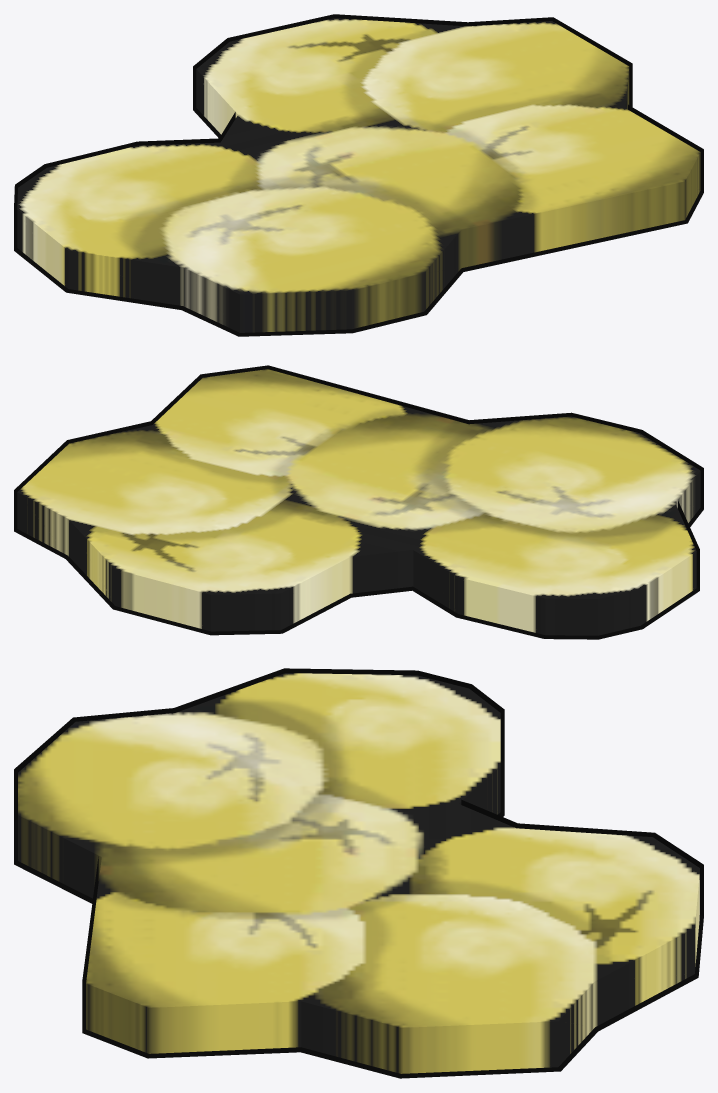
The model's file is Item_Ambrosia_Things_Item_Drug_Ambrosia_Ambrosia_b.glb.
3 renders of one model, top to bottom at view 1: azimuth 30°, elevation 25°; view 2: azimuth 150°, elevation 25°; view 3: azimuth 270°, elevation 25°, orthographic. The views are drawn at different scales.
Visible parts, largest first — view 1: Body, Outline; view 2: Body, Outline; view 3: Body, Outline.
Boxes of the visible parts, bbox=[...] form: Body: bbox=[17, 18, 700, 332]; Outline: bbox=[14, 14, 703, 336]; Body: bbox=[17, 369, 700, 635]; Outline: bbox=[14, 365, 703, 639]; Body: bbox=[18, 673, 699, 1073]; Outline: bbox=[14, 668, 703, 1078].
Bounding box in the file's own units: 1.26 × 0.0889 × 1.03.
Materials: 2 (1 with a texture image).
